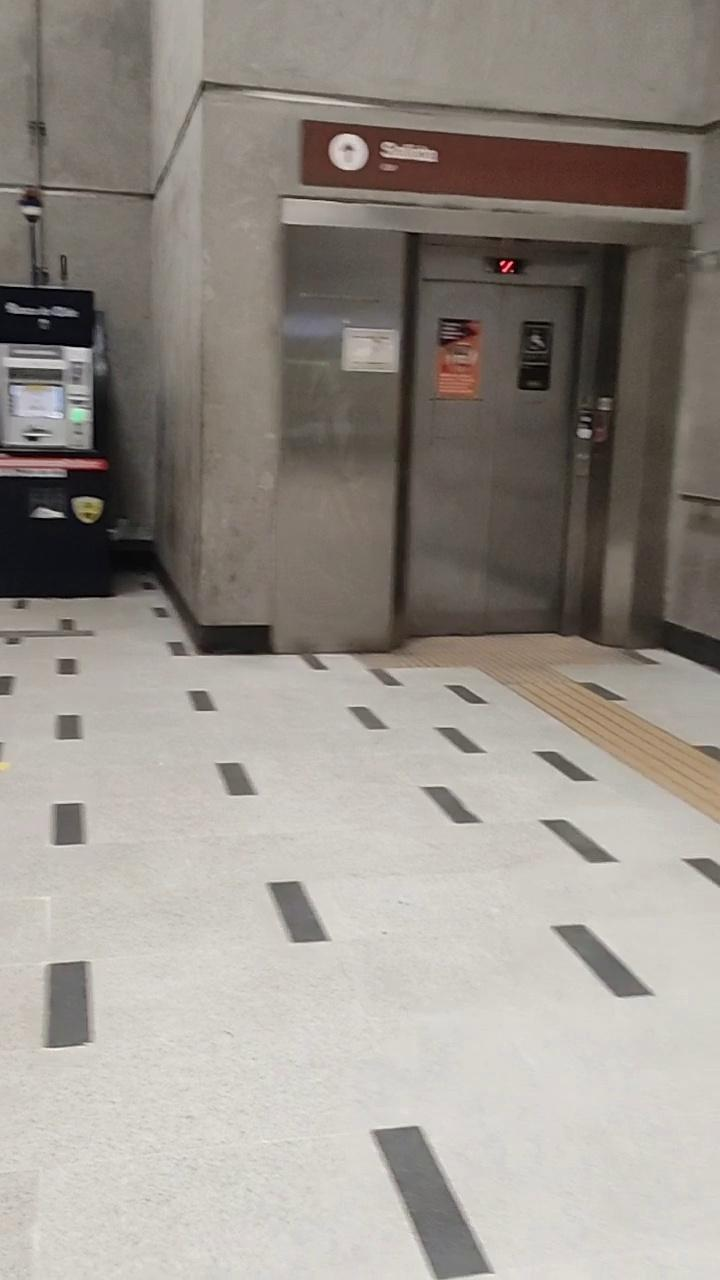handicapped symbol: (524, 320, 550, 362)
up arrow: (334, 133, 366, 171)
